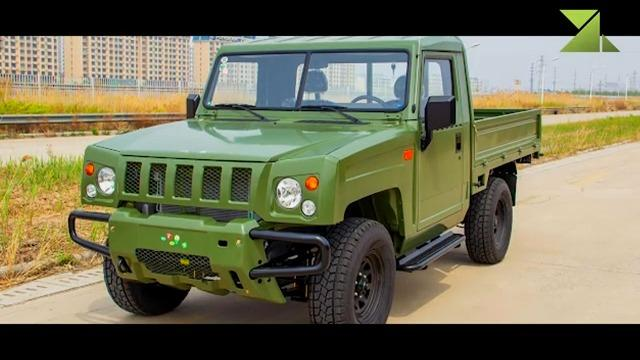MIL_HMMWV: (67, 36, 543, 324)
